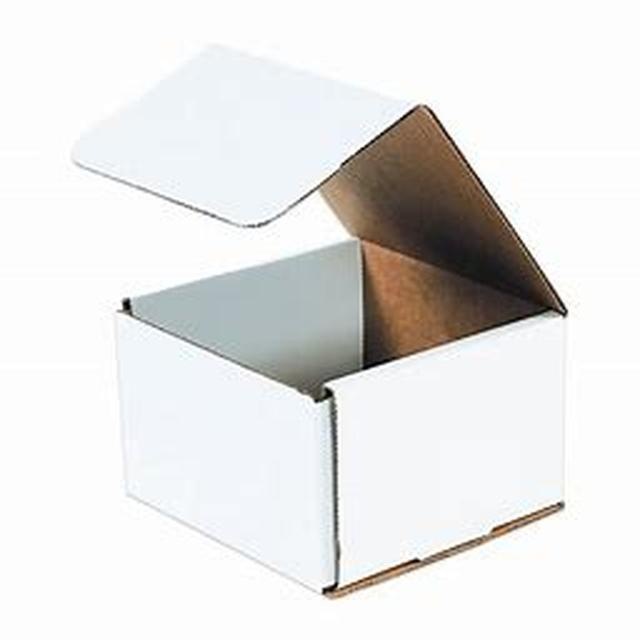box: (109, 284, 586, 614)
